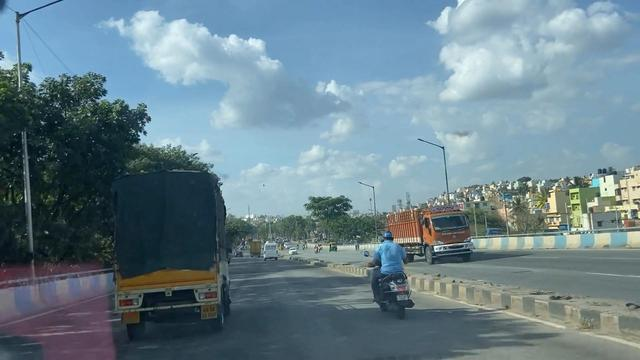HMV: (107, 165, 236, 328)
LMV: (372, 217, 417, 315)
